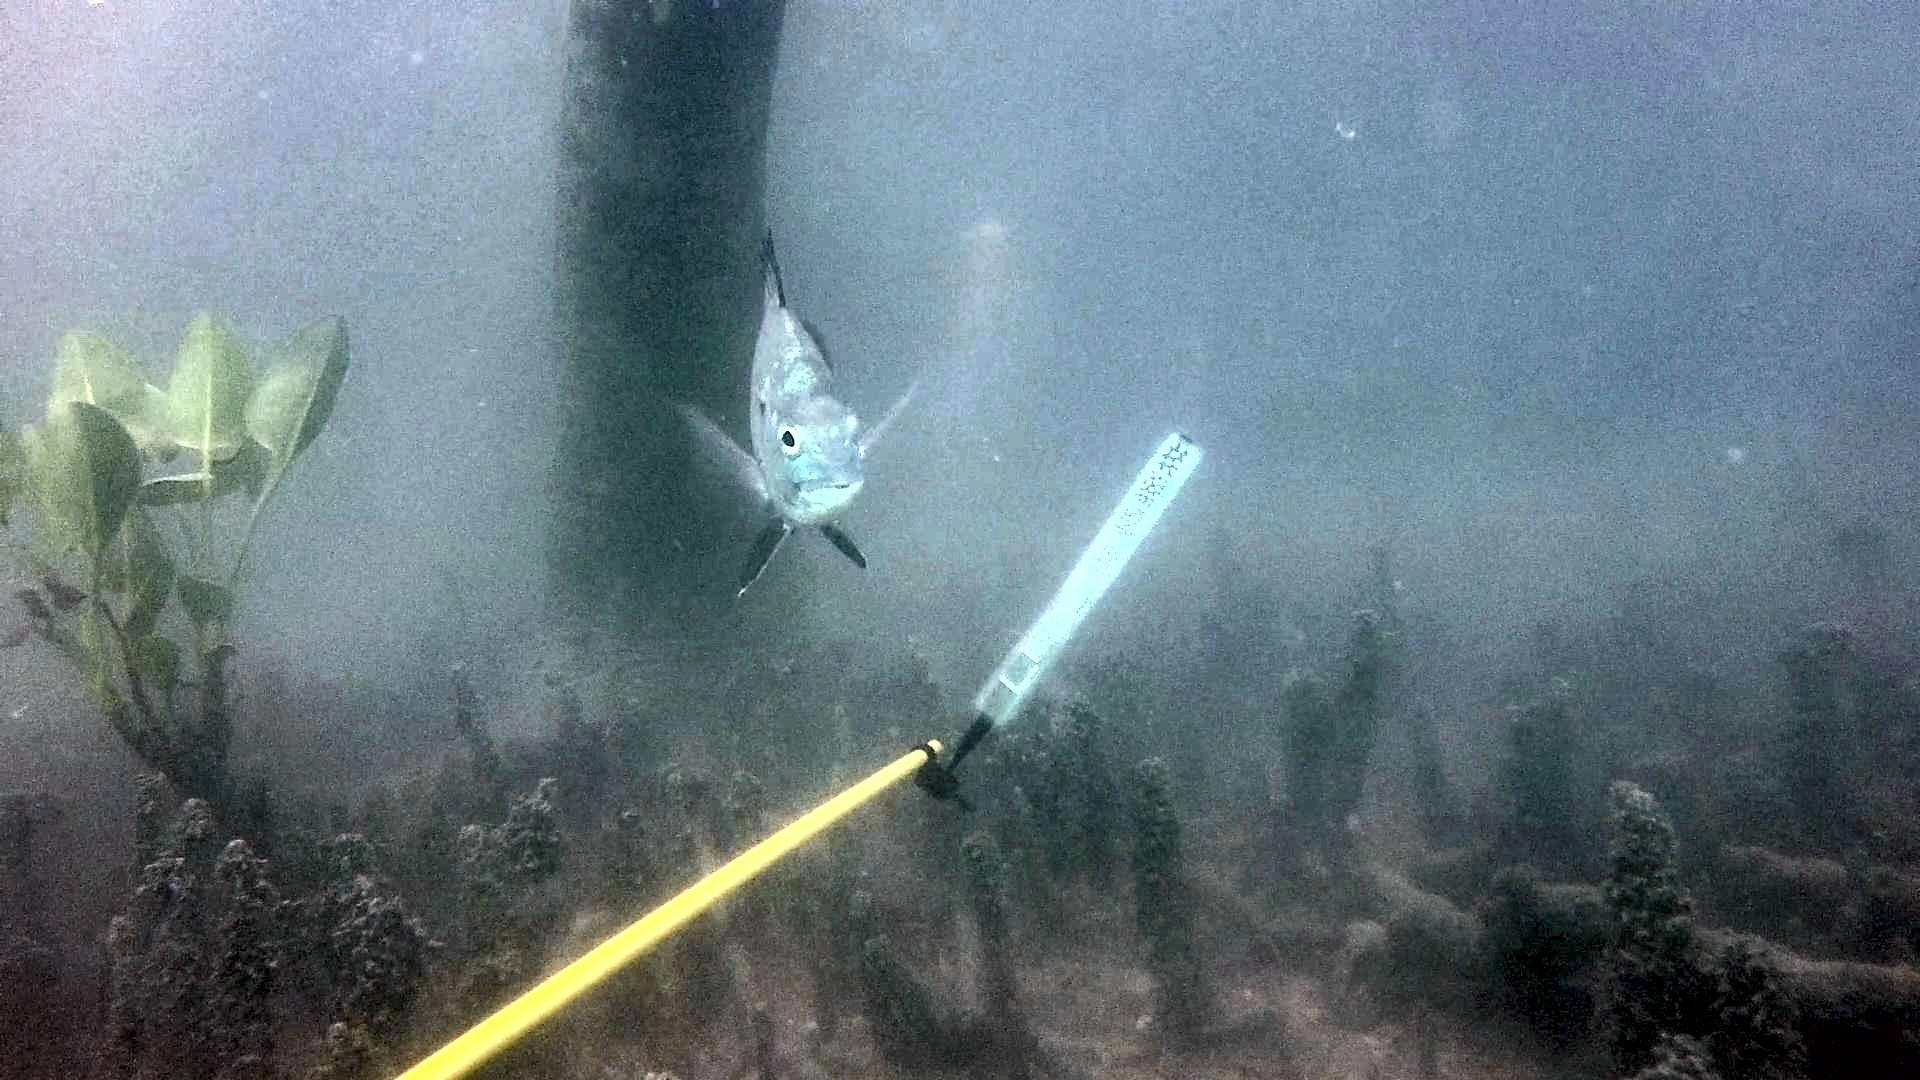acanthopagrus palmaris: (653, 216, 998, 602)
